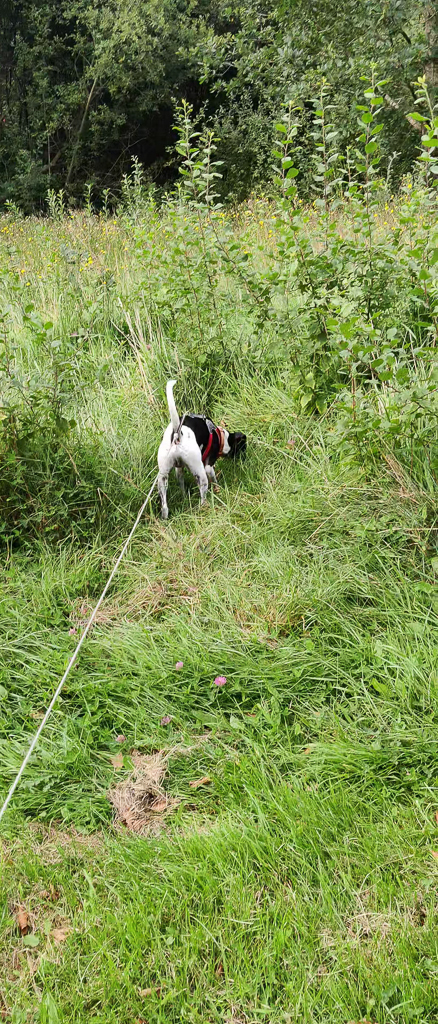Dog: (143, 364, 256, 537)
